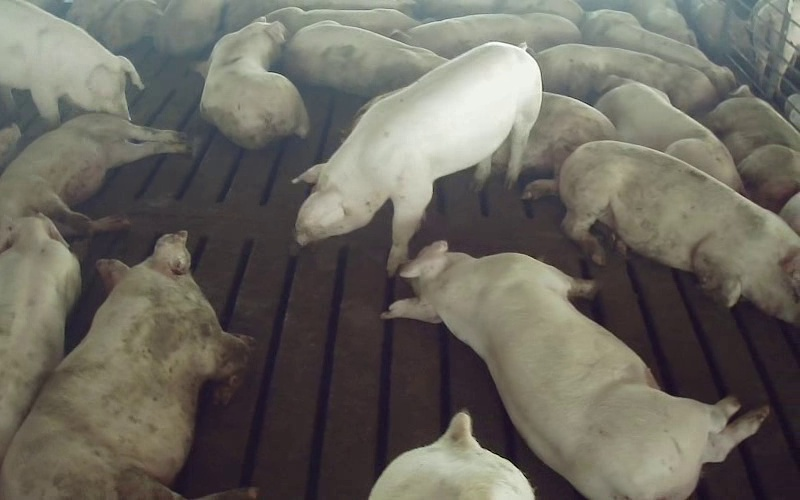pig: (383, 241, 768, 499), (0, 232, 249, 499), (296, 43, 541, 273), (559, 141, 799, 322), (0, 113, 188, 251), (0, 215, 80, 463), (595, 75, 742, 192), (198, 19, 308, 148), (582, 10, 735, 97), (536, 44, 718, 114), (283, 21, 446, 97), (703, 85, 799, 212), (391, 13, 580, 58)
